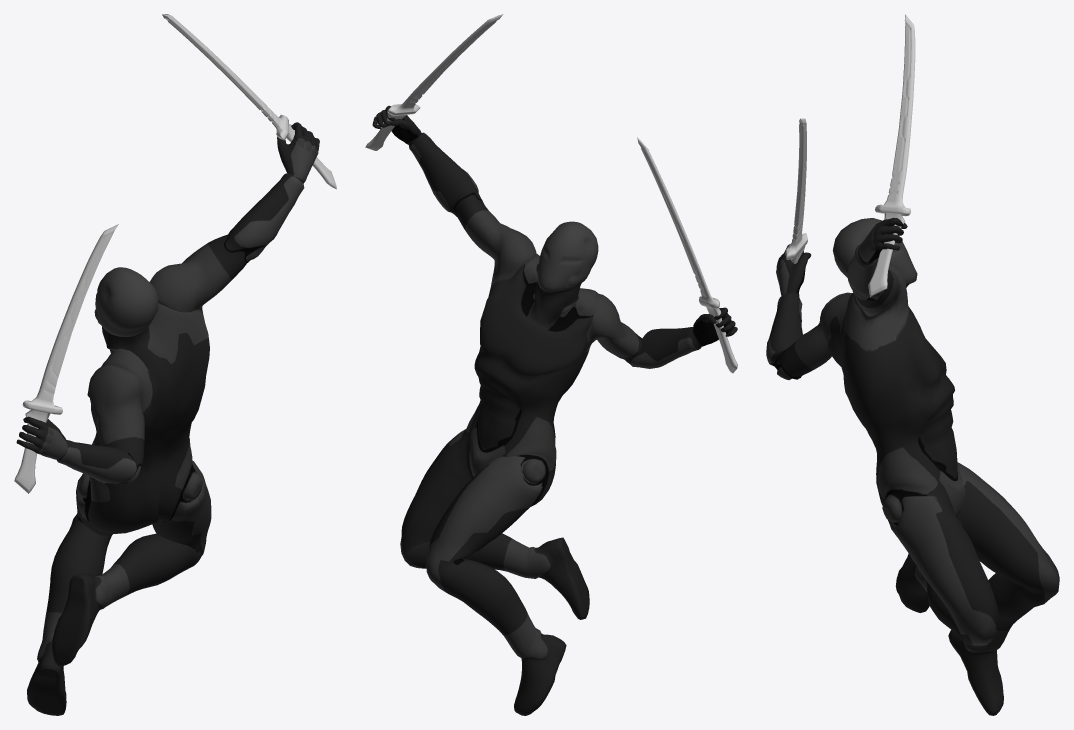
3 views of the same model, side by side, from view 1: azimuth 30°, elevation 25°; view 2: azimuth 150°, elevation 25°; view 3: azimuth 270°, elevation 25° (orthographic). The views are drawn at different scales.
Parts seen in each view (by area): view 1: Cyborg_Ninja_Killer, Sword_l, Sword_l001; view 2: Cyborg_Ninja_Killer, Sword_l, Sword_l001; view 3: Cyborg_Ninja_Killer, Sword_l001, Sword_l.
Part boxes in pixels (<box>): Cyborg_Ninja_Killer: <box>16,122,319,715</box>; Sword_l: <box>14,224,118,493</box>; Sword_l001: <box>162,14,336,189</box>; Cyborg_Ninja_Killer: <box>372,105,737,715</box>; Sword_l: <box>637,137,737,373</box>; Sword_l001: <box>365,14,503,150</box>; Cyborg_Ninja_Killer: <box>766,217,1059,715</box>; Sword_l001: <box>868,14,915,296</box>; Sword_l: <box>785,118,807,263</box>.
Size of the model in its own units: 129 by 245 by 89.07.
